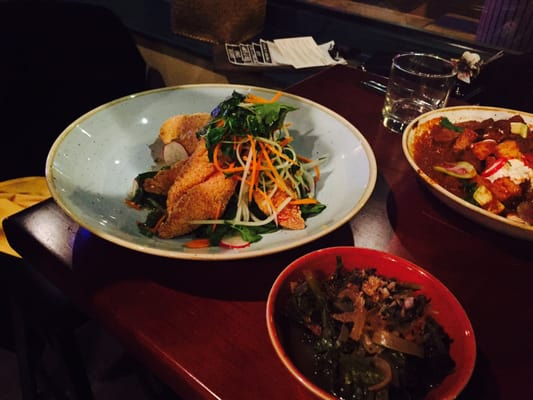sushi: (265, 247, 478, 400)
